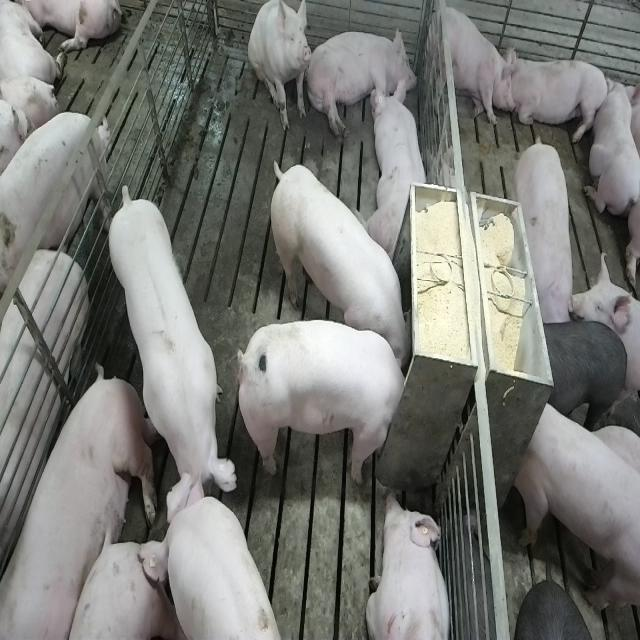Feeding: (264, 159, 412, 367), (232, 318, 408, 484)
Lateral_lying: (5, 368, 159, 640), (303, 23, 418, 138)
Sitting: (248, 1, 312, 134)
Standing: (109, 185, 239, 534), (0, 241, 90, 576), (515, 394, 638, 624), (137, 482, 285, 640), (0, 104, 110, 308), (514, 133, 578, 327), (427, 3, 511, 132), (541, 316, 627, 428)
Sternal_lying: (366, 489, 453, 640), (366, 76, 431, 258), (508, 43, 610, 140), (583, 64, 638, 220)
